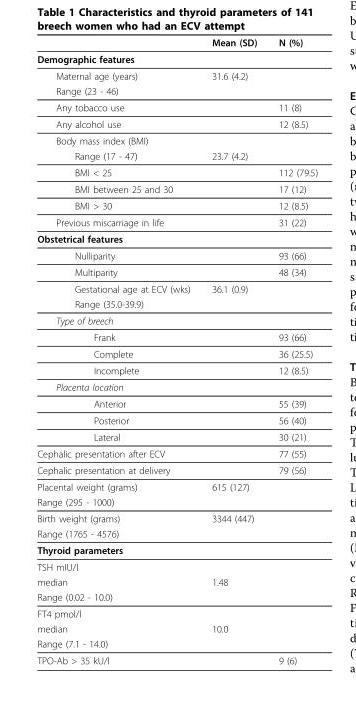table: (36, 36, 317, 665)
table column: (36, 36, 200, 665), (200, 36, 267, 665), (267, 36, 317, 665)
table column header: (36, 36, 317, 50)
table projected row header: (36, 50, 317, 67), (36, 230, 317, 247), (36, 378, 317, 395), (36, 541, 317, 558), (36, 132, 317, 148), (36, 296, 317, 312), (36, 312, 317, 328), (36, 525, 317, 541), (36, 558, 317, 574), (36, 589, 317, 605), (36, 635, 317, 651), (36, 83, 317, 98), (36, 494, 317, 509), (36, 605, 317, 620)
table row: (36, 50, 317, 67), (36, 98, 317, 115), (36, 115, 317, 132), (36, 163, 317, 180), (36, 180, 317, 197), (36, 213, 317, 230), (36, 230, 317, 247), (36, 263, 317, 280), (36, 328, 317, 345), (36, 361, 317, 378), (36, 378, 317, 395), (36, 411, 317, 428), (36, 428, 317, 445), (36, 461, 317, 478), (36, 541, 317, 558), (36, 67, 317, 83), (36, 132, 317, 148), (36, 197, 317, 213), (36, 247, 317, 263), (36, 280, 317, 296), (36, 296, 317, 312), (36, 312, 317, 328), (36, 345, 317, 361), (36, 395, 317, 411), (36, 445, 317, 461), (36, 478, 317, 494), (36, 509, 317, 525), (36, 525, 317, 541), (36, 558, 317, 574), (36, 589, 317, 605), (36, 635, 317, 651), (36, 83, 317, 98), (36, 148, 317, 163), (36, 494, 317, 509), (36, 574, 317, 589), (36, 605, 317, 620), (36, 620, 317, 635), (36, 36, 317, 50), (36, 651, 317, 665)
